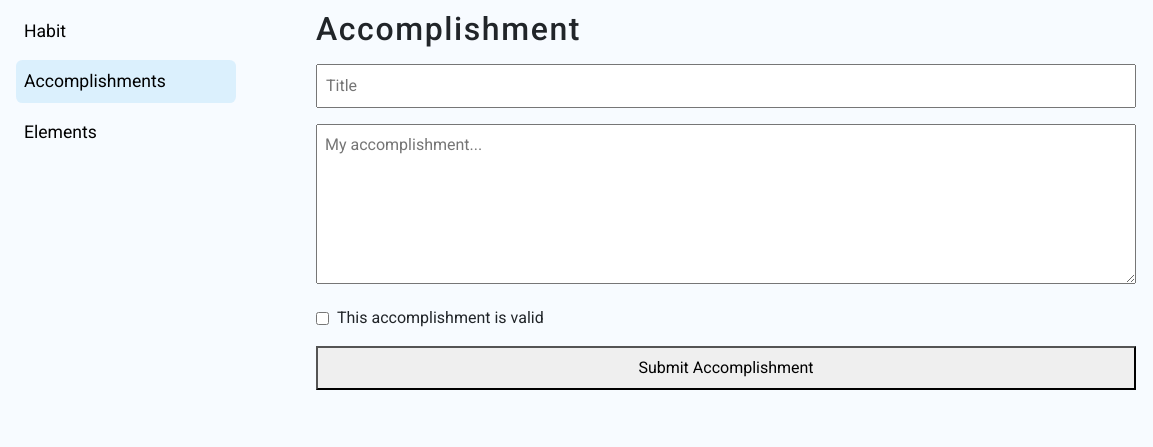
Scenario: acomplishment form testing › Should showcase error if info missing
In the field with test id "accomplishment-title-input": (726, 86) [316,64,1136,108], type "My Programing Acomplishment"
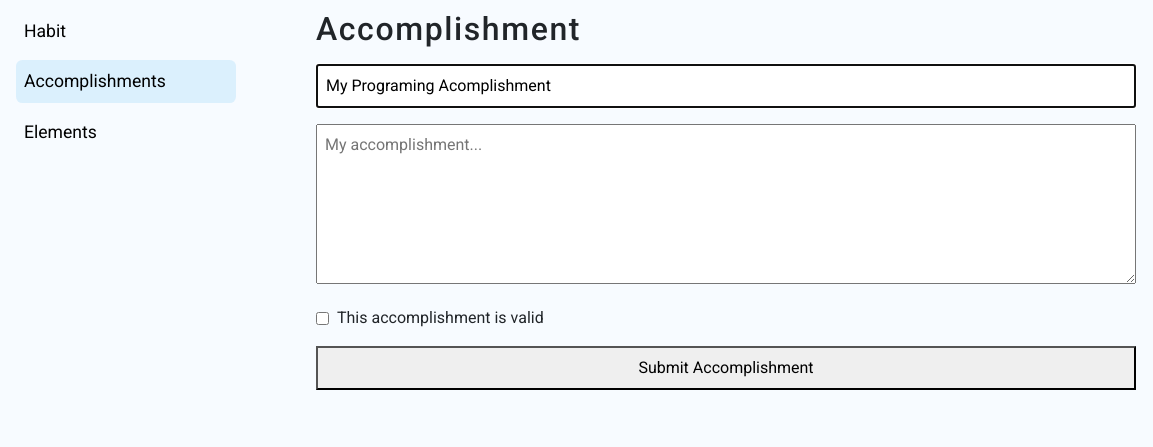
In the text box with test id "accomplishment-input": (726, 204) [316,124,1136,284], type "My Programing Acomplishment is that i got the job in a company that"
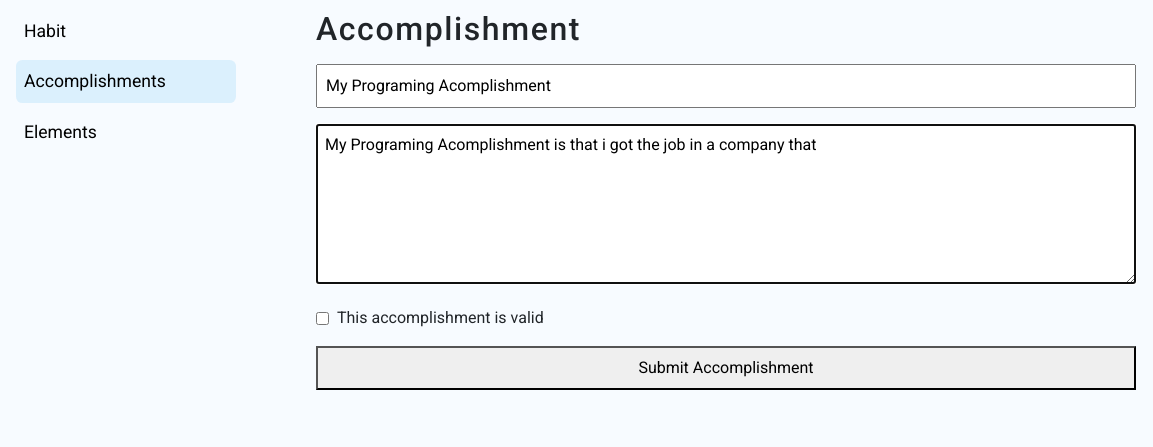
Click the button with class "Accomplishment-btn": click(726, 368) [316,346,1136,390]
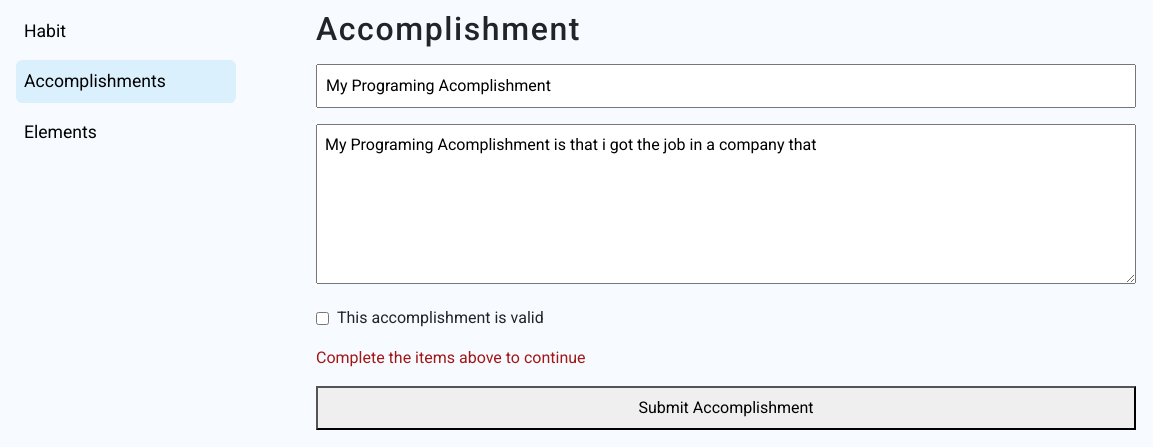
Now the text "Complete the items" is shown, box [316,348,586,367]
